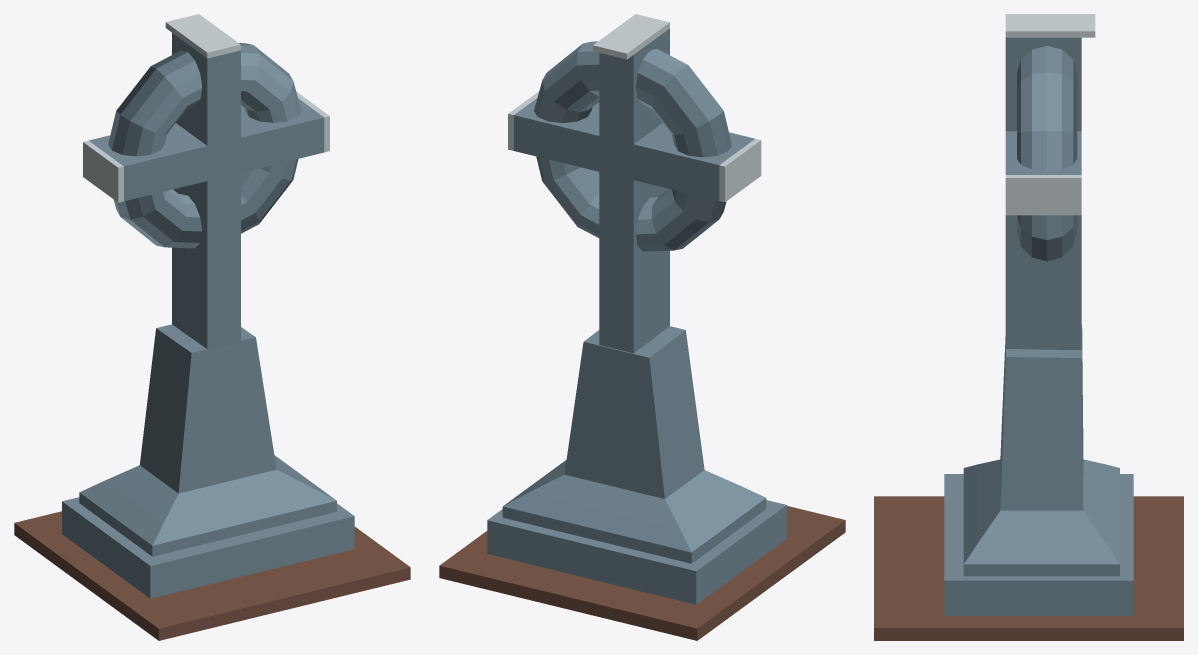
File: gravestone-2-by-ian-macgillivray-asC6eDdpC2W.glb
The picture shows the model from 3 angles, left to right: view 1: azimuth 30°, elevation 25°; view 2: azimuth 150°, elevation 25°; view 3: azimuth 270°, elevation 25°; orthographic projection. The views are drawn at different scales.
Parts seen in each view (by area): view 1: Node; view 2: Node; view 3: Node.
Boxes of the visible parts, x1,y1,x2,y2 form: Node: [14, 14, 410, 640]; Node: [439, 14, 845, 640]; Node: [874, 14, 1183, 640].
Bounding box in the file's own units: 2.17 × 4.25 × 2.16.
